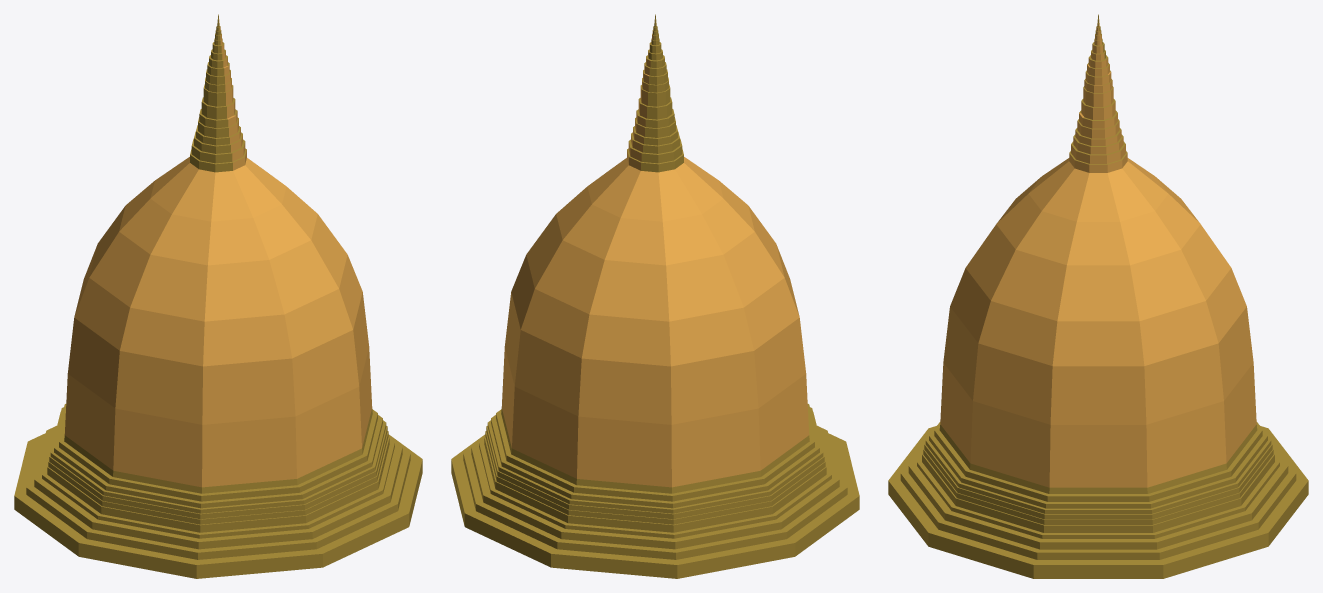
3 renders of one model, left to right at view 1: azimuth 30°, elevation 25°; view 2: azimuth 150°, elevation 25°; view 3: azimuth 270°, elevation 25°, orthographic.
Visible parts, largest first — view 1: Cylinder; view 2: Cylinder; view 3: Cylinder.
Boxes of the visible parts, x1,y1,x2,y2 form: Cylinder: (14, 14, 422, 578); Cylinder: (451, 14, 859, 578); Cylinder: (888, 14, 1308, 578).
Size of the model in its own units: 1174 by 1557 by 1235.
